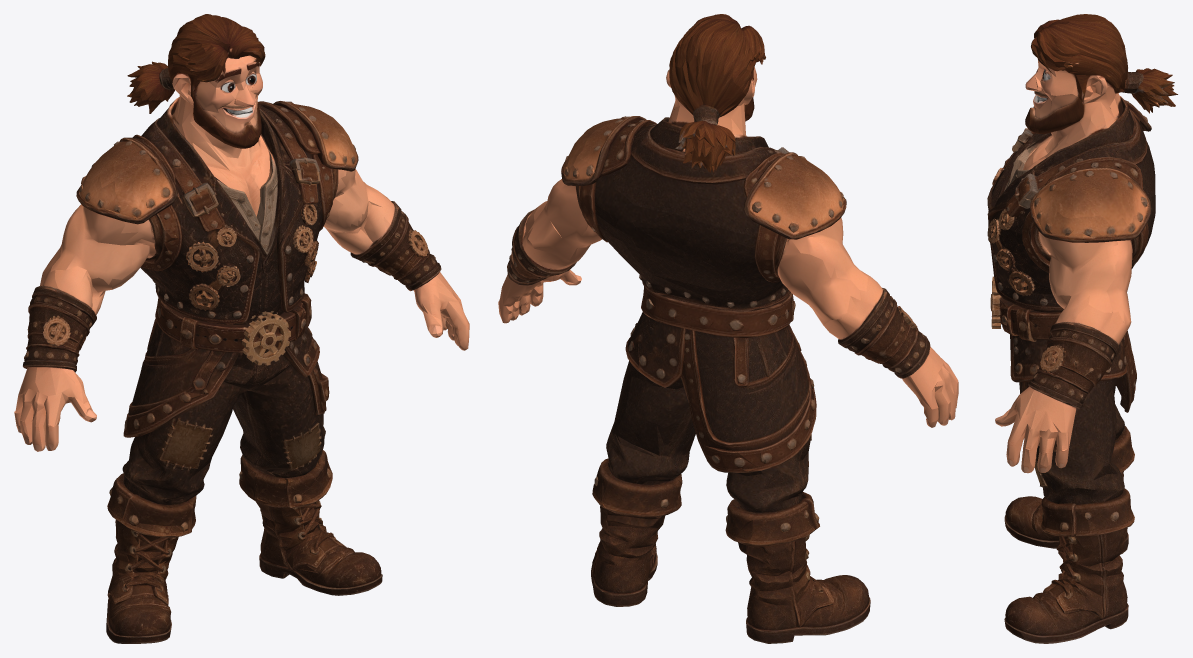
The model's file is muscleman_steampunk.fbx.
3 views of the same model, side by side, from view 1: azimuth 30°, elevation 25°; view 2: azimuth 150°, elevation 25°; view 3: azimuth 270°, elevation 25° (orthographic). The views are drawn at different scales.
Parts seen in each view (by area): view 1: muscleman_steampunk; view 2: muscleman_steampunk; view 3: muscleman_steampunk.
Boxes of the visible parts, x1=… form: muscleman_steampunk: x1=14, y1=14, x2=469, y2=643; muscleman_steampunk: x1=498, y1=14, x2=958, y2=643; muscleman_steampunk: x1=987, y1=14, x2=1177, y2=643.
Size of the model in its own units: 1.6 by 2 by 0.6181.
1 material, 1 textured.
